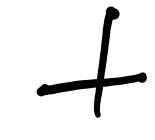plus: (37, 6, 148, 118)
